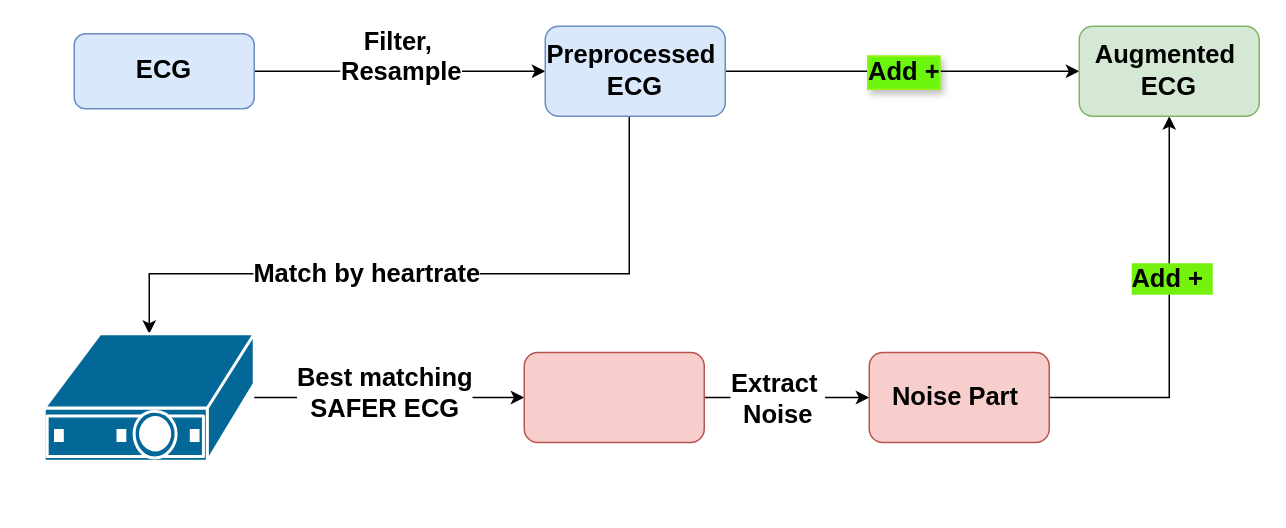
The diagram is 1286 pixels wide and 528 high, and some of its shapes have lost their labels. Each missing label, with the centre of its shape:
"SAFER ECG" goes at point (613, 396).
"SAFER ECG Signals" goes at point (148, 397).
